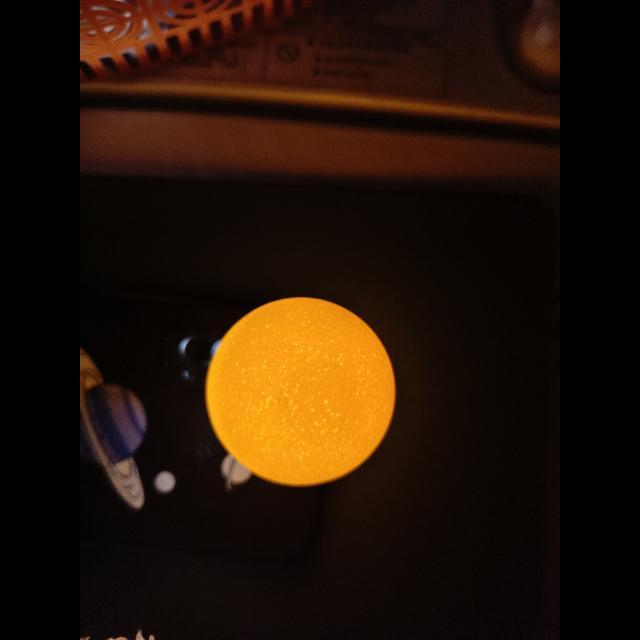AA - Premium: (206, 298, 395, 486)
